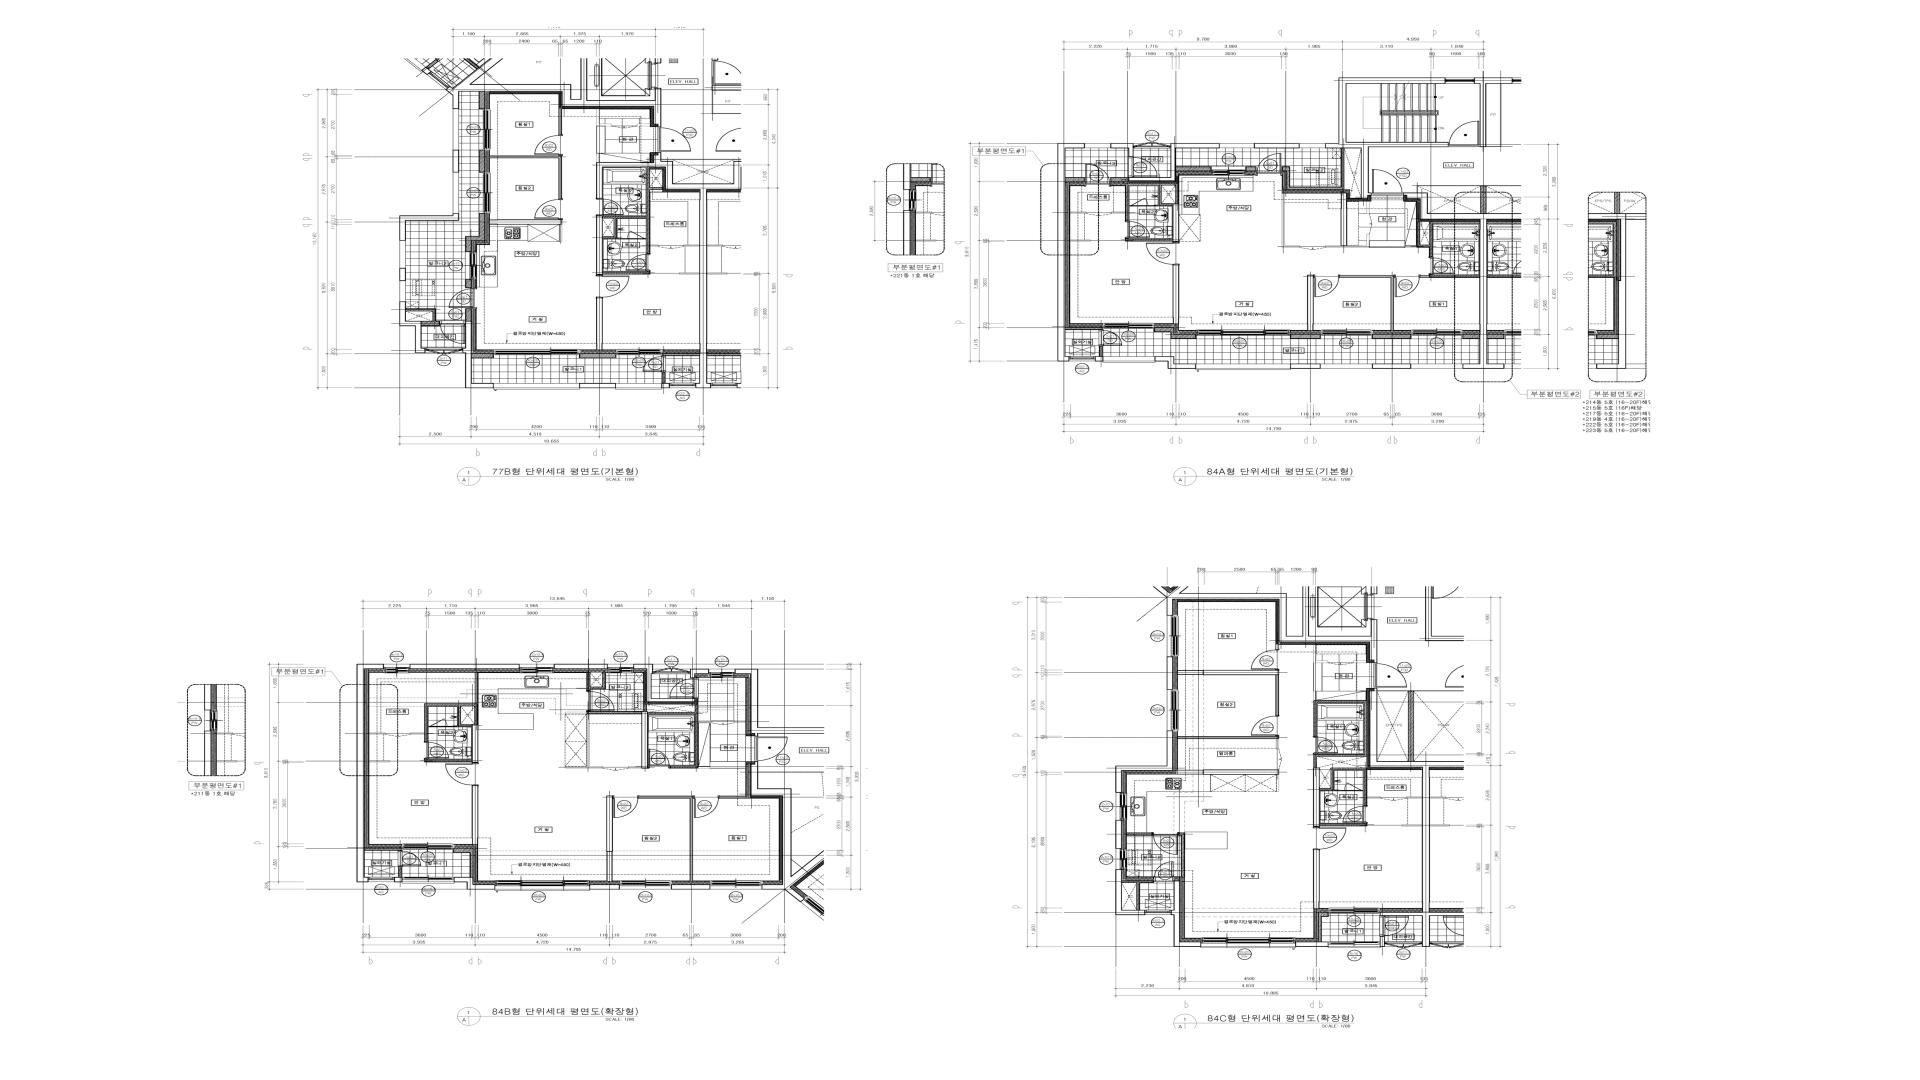door: (1371, 169, 1403, 195), (754, 736, 787, 761), (658, 127, 691, 152), (444, 762, 479, 786), (1146, 241, 1180, 265), (1449, 120, 1480, 146), (596, 274, 629, 298), (1374, 663, 1407, 687), (1313, 825, 1346, 849), (585, 690, 615, 711), (534, 135, 563, 156), (448, 287, 477, 309), (440, 320, 465, 344), (1313, 274, 1340, 297), (1394, 274, 1420, 297), (1153, 832, 1179, 855), (1251, 649, 1279, 670), (670, 678, 699, 698), (1129, 157, 1158, 177), (534, 199, 563, 219), (1379, 916, 1408, 936), (694, 795, 719, 818), (613, 795, 638, 818), (1085, 164, 1110, 186), (1257, 153, 1282, 175), (1251, 716, 1279, 736), (596, 198, 624, 215), (1125, 220, 1150, 239), (1313, 736, 1338, 754), (423, 741, 450, 758), (1428, 257, 1455, 274), (625, 253, 650, 270), (1342, 806, 1367, 823), (649, 749, 670, 769), (1154, 861, 1174, 882), (642, 356, 666, 372), (1098, 330, 1122, 345), (398, 851, 421, 866), (653, 667, 690, 674), (1134, 141, 1171, 148), (426, 348, 463, 355), (1385, 942, 1422, 948), (1345, 782, 1362, 791), (430, 719, 447, 727), (1131, 198, 1149, 206), (628, 231, 644, 239), (712, 720, 735, 725), (658, 245, 684, 249), (1381, 796, 1407, 800), (1276, 749, 1282, 769), (1087, 212, 1112, 216), (603, 767, 629, 770), (385, 733, 410, 736), (1300, 247, 1325, 249), (612, 125, 637, 128), (1328, 662, 1353, 665)
wall: (596, 152, 741, 388), (1370, 687, 1464, 947), (1403, 193, 1522, 369), (1153, 585, 1378, 663), (1325, 78, 1449, 199), (446, 58, 662, 127), (750, 761, 824, 902), (356, 663, 384, 882), (1058, 142, 1085, 361), (735, 669, 824, 736), (603, 167, 663, 253), (638, 795, 694, 881), (1178, 670, 1279, 716), (566, 711, 642, 767), (647, 704, 712, 769), (1313, 700, 1367, 767), (1116, 731, 1174, 793), (1129, 142, 1220, 181), (1420, 224, 1480, 278), (489, 156, 562, 199), (1340, 276, 1394, 331), (1320, 767, 1367, 827), (1282, 148, 1345, 190), (1474, 78, 1513, 146), (1112, 183, 1179, 220), (1325, 193, 1370, 248), (634, 663, 695, 702), (1178, 769, 1279, 791), (1416, 222, 1480, 257), (1425, 585, 1464, 641), (425, 703, 479, 741), (463, 320, 493, 388), (1171, 881, 1201, 947), (1125, 206, 1174, 241), (425, 727, 472, 762), (400, 214, 459, 240), (400, 302, 426, 353), (1178, 736, 1279, 749), (1116, 869, 1145, 915), (629, 711, 649, 769), (1486, 83, 1502, 146), (1282, 194, 1300, 248), (1122, 880, 1154, 910), (1416, 185, 1522, 193), (465, 212, 485, 252), (406, 309, 440, 326), (410, 663, 520, 669), (454, 848, 473, 877), (607, 795, 613, 881), (1155, 356, 1196, 369), (1154, 327, 1197, 339), (454, 877, 495, 889), (1313, 767, 1320, 827), (1313, 849, 1320, 909), (596, 215, 603, 274), (1172, 265, 1179, 324), (472, 786, 479, 845), (489, 219, 562, 224), (1307, 274, 1313, 331), (1408, 691, 1414, 761), (587, 671, 607, 690), (596, 298, 603, 351), (1110, 142, 1134, 157), (1319, 913, 1329, 942), (1179, 832, 1185, 877), (554, 663, 608, 669), (596, 108, 612, 125), (1313, 645, 1328, 663), (472, 724, 479, 762), (1172, 203, 1179, 241), (1254, 142, 1299, 148), (1167, 657, 1174, 690), (1371, 334, 1412, 339), (1373, 364, 1411, 369), (579, 353, 616, 359), (1116, 820, 1122, 849), (603, 270, 650, 274), (580, 382, 616, 388), (1176, 166, 1212, 171), (690, 669, 709, 678), (1290, 334, 1321, 339), (1296, 942, 1328, 947), (671, 885, 711, 889), (479, 149, 485, 173), (1291, 364, 1320, 369), (1481, 186, 1486, 214), (452, 150, 459, 171), (475, 671, 479, 703), (589, 885, 620, 889), (479, 91, 485, 108), (1378, 690, 1464, 691), (472, 353, 493, 359), (1126, 832, 1153, 836), (1065, 177, 1085, 182), (662, 158, 741, 160), (364, 848, 402, 851), (1110, 177, 1129, 182), (1065, 327, 1102, 330), (662, 353, 699, 356), (1462, 334, 1480, 339), (400, 268, 406, 281), (719, 795, 750, 798), (465, 309, 472, 320), (559, 108, 562, 135), (1402, 824, 1423, 827), (1098, 345, 1104, 356), (1246, 166, 1257, 171), (465, 280, 472, 287), (1071, 239, 1091, 241), (369, 760, 389, 762), (394, 877, 402, 882), (683, 244, 699, 247), (662, 382, 670, 388), (1096, 356, 1104, 361), (1071, 211, 1087, 214), (662, 372, 666, 382), (1381, 936, 1385, 947), (369, 732, 385, 735), (398, 866, 402, 877), (410, 732, 425, 735), (1353, 661, 1366, 663), (1367, 202, 1370, 214), (735, 720, 745, 723), (679, 273, 699, 274), (644, 704, 647, 711), (560, 224, 562, 241), (1275, 644, 1279, 649), (1407, 796, 1423, 798), (650, 244, 658, 247), (1367, 796, 1381, 798), (637, 124, 650, 125)
window: (1201, 938, 1296, 948), (495, 881, 589, 890), (1196, 330, 1290, 336), (493, 382, 580, 389), (1196, 364, 1291, 369), (1167, 616, 1179, 657), (1167, 690, 1179, 731), (711, 880, 762, 889), (620, 880, 671, 889), (493, 349, 579, 355), (1328, 942, 1381, 948), (1328, 907, 1381, 914), (402, 877, 454, 884), (1104, 356, 1155, 363), (465, 252, 477, 280), (1116, 793, 1127, 820), (483, 108, 491, 149), (483, 173, 491, 214), (520, 663, 554, 673), (1212, 166, 1246, 175), (616, 382, 662, 389), (452, 108, 459, 150), (452, 171, 459, 214), (402, 844, 454, 849), (1102, 323, 1154, 328), (1321, 330, 1373, 335), (1411, 330, 1462, 335), (384, 663, 410, 673), (608, 663, 634, 673), (616, 349, 662, 355), (1116, 849, 1127, 869), (709, 669, 735, 678), (1320, 364, 1373, 368), (1411, 364, 1462, 368), (400, 240, 406, 268), (1445, 78, 1474, 83), (368, 877, 394, 882), (670, 382, 696, 388), (400, 281, 406, 302), (1145, 910, 1171, 915), (1220, 144, 1254, 148), (1069, 356, 1095, 361), (1299, 144, 1325, 148), (1085, 144, 1110, 148)
